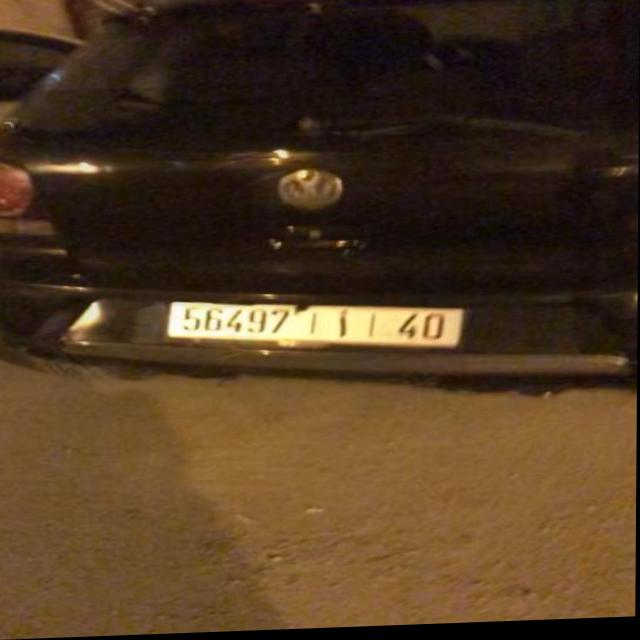License-Plate: (170, 304, 465, 351)
